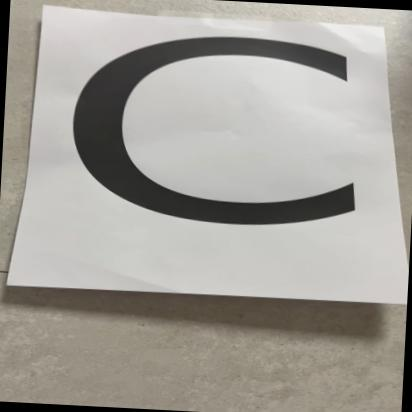seat: (41, 0, 392, 289)
